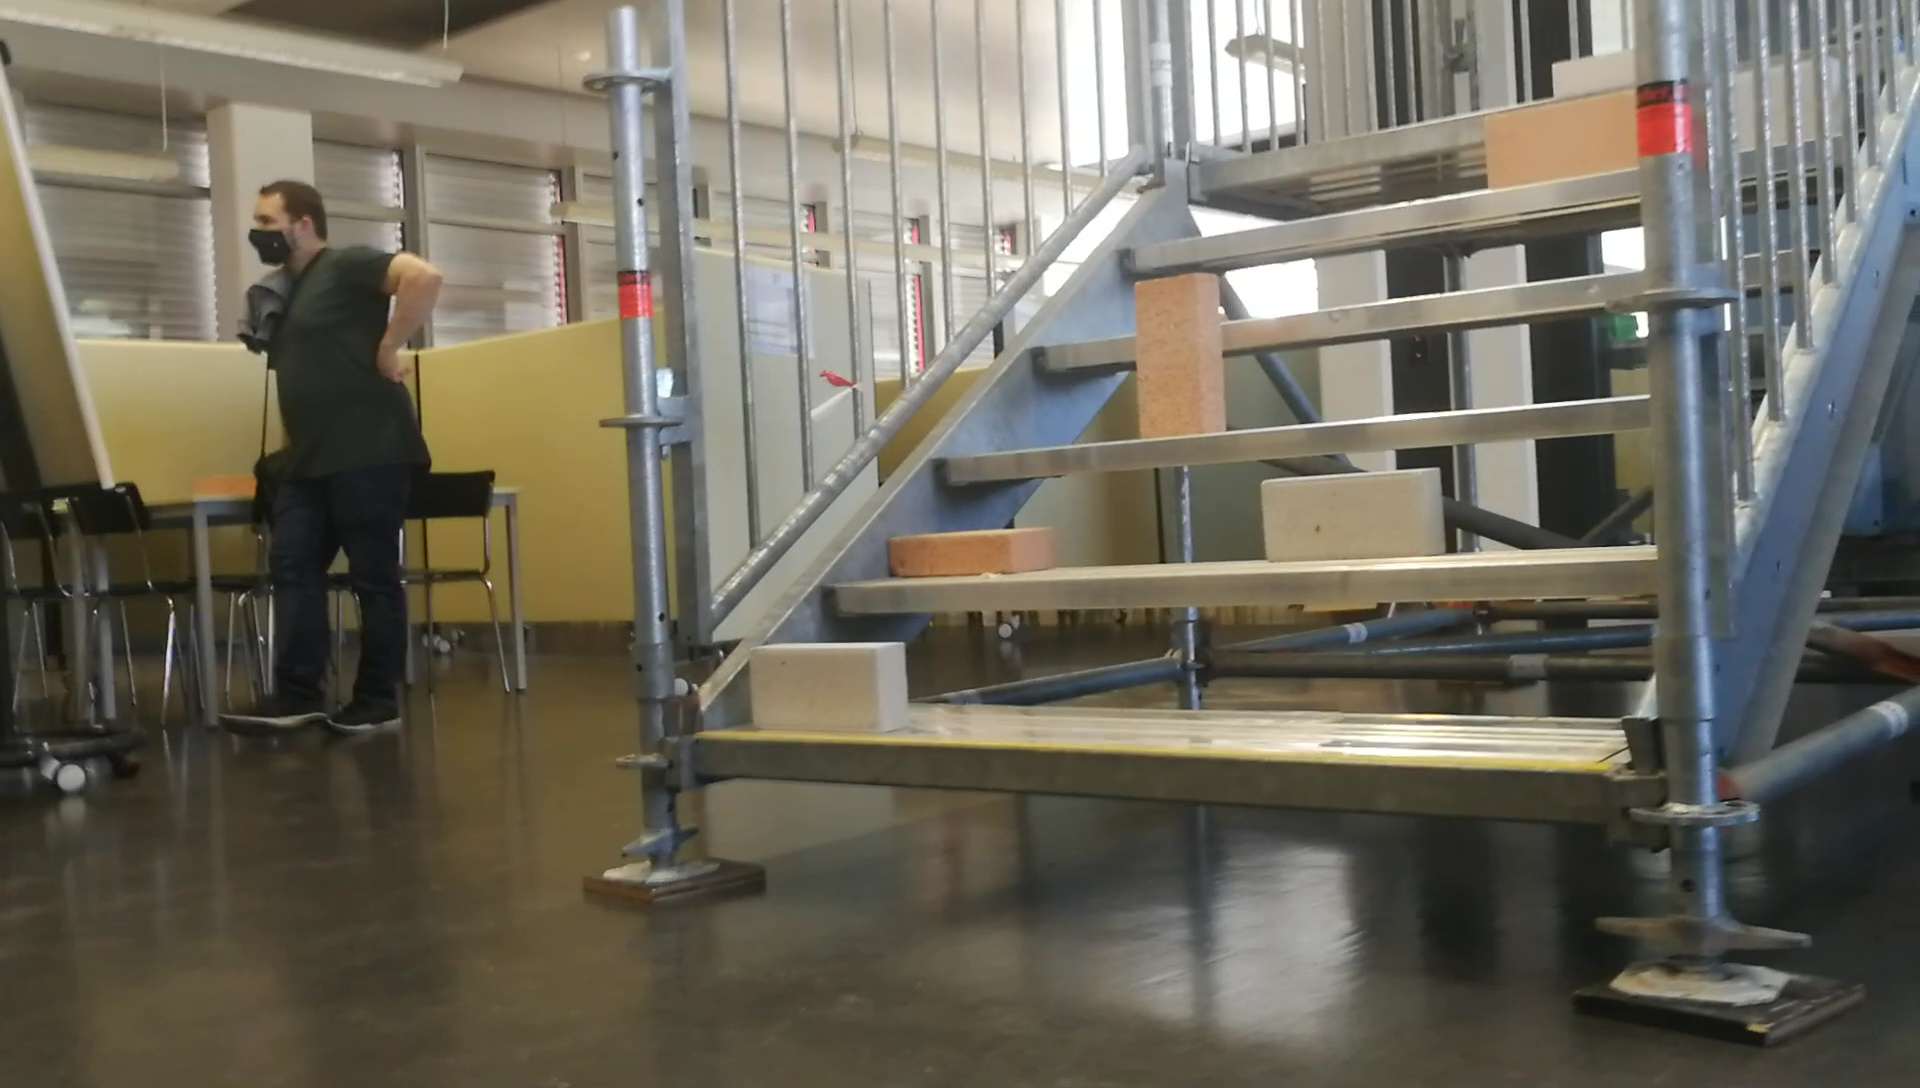brick: (1261, 471, 1443, 560), (1135, 270, 1222, 438), (750, 642, 907, 729), (1490, 94, 1639, 182), (891, 530, 1054, 574), (1552, 50, 1633, 92)
edge: (695, 735, 1619, 818), (820, 560, 1662, 611)
stairs: (580, 3, 1741, 1041)
